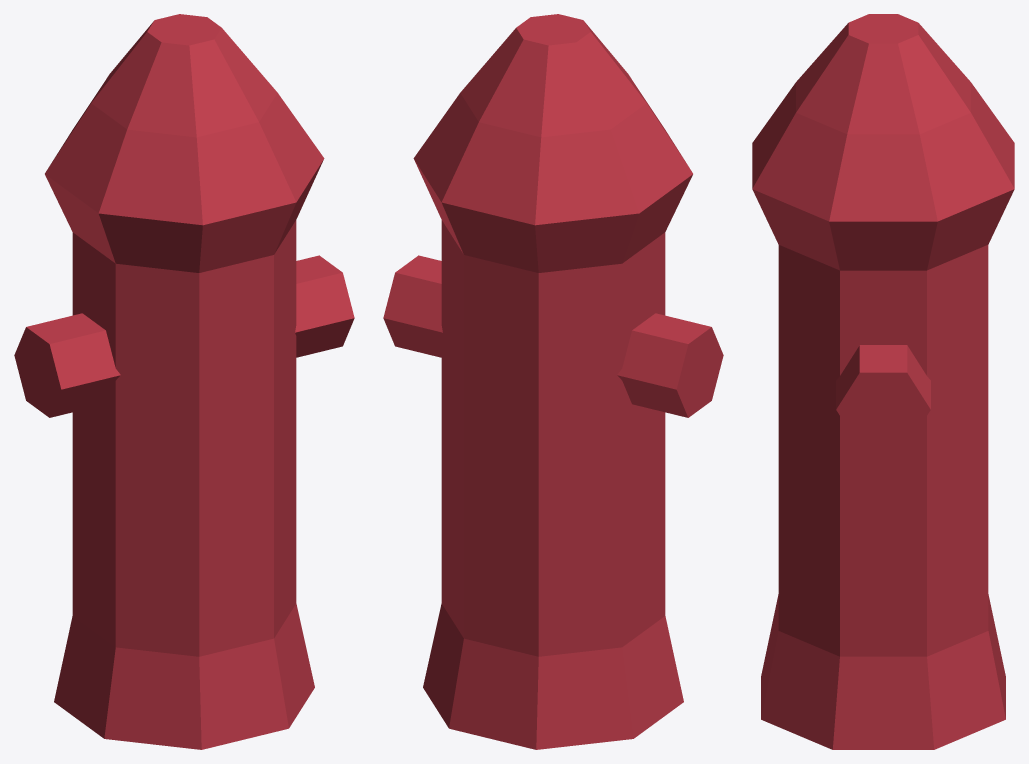
File: fire_hydrant.glb
3 views of the same model, side by side, from view 1: azimuth 30°, elevation 25°; view 2: azimuth 150°, elevation 25°; view 3: azimuth 270°, elevation 25° (orthographic).
Visible parts, largest first — view 1: fire_hydrant; view 2: fire_hydrant; view 3: fire_hydrant.
Part boxes in pixels (box(x1,y1,x2,y2)): fire_hydrant: box(14, 14, 354, 749); fire_hydrant: box(383, 14, 723, 749); fire_hydrant: box(752, 14, 1014, 749).
Size of the model in its own units: 0.36 by 0.78 by 0.2772.
